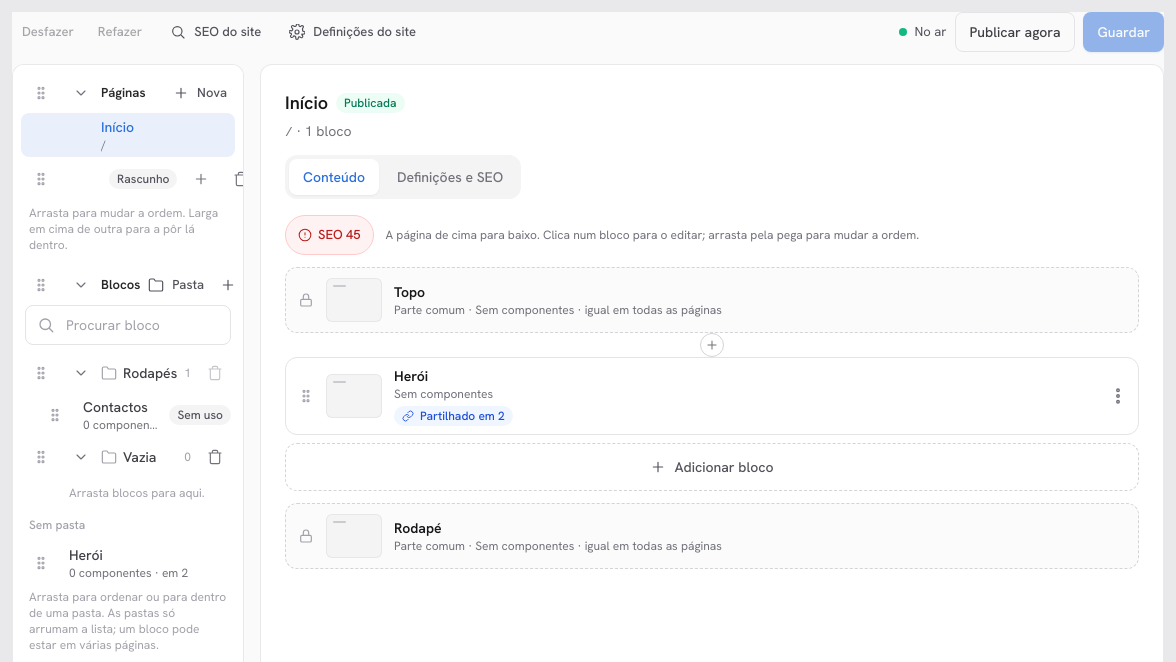
Paginas · lista lateral › pasta nova: nasce com o nome em edição, Enter grava, Esc cancela
Click the button with aria-label "Nova pasta" at (176, 285), box [140, 265, 212, 305]
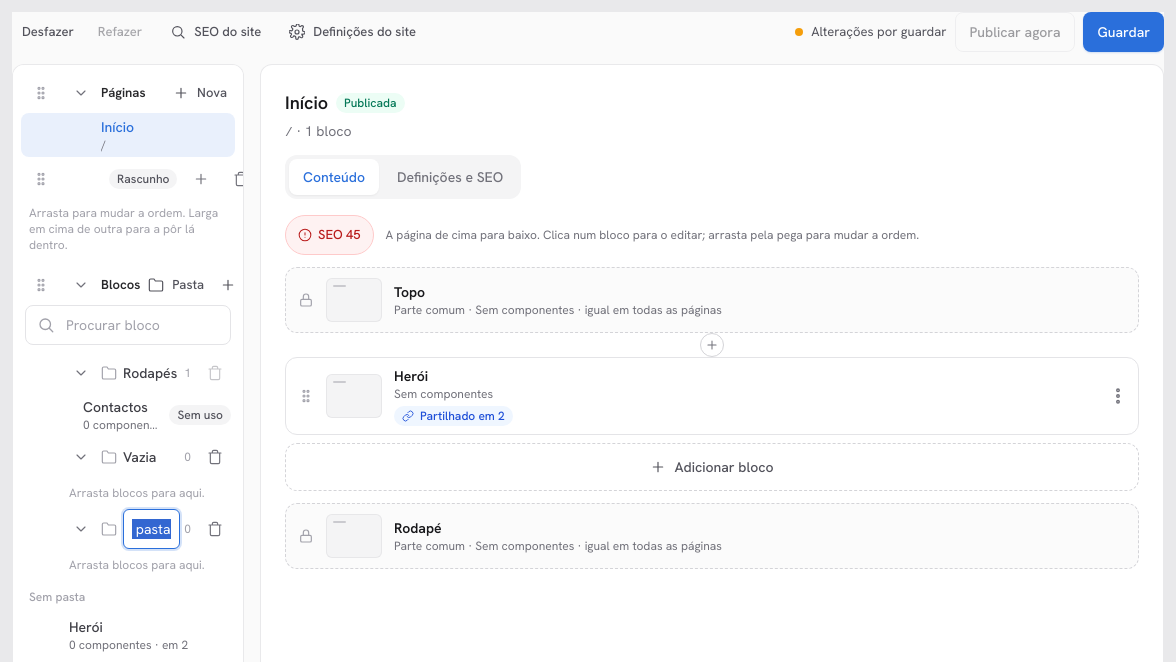
Replace the text in the field named "Nome da pasta" with "Heróis" at (152, 529), box [123, 509, 180, 549]
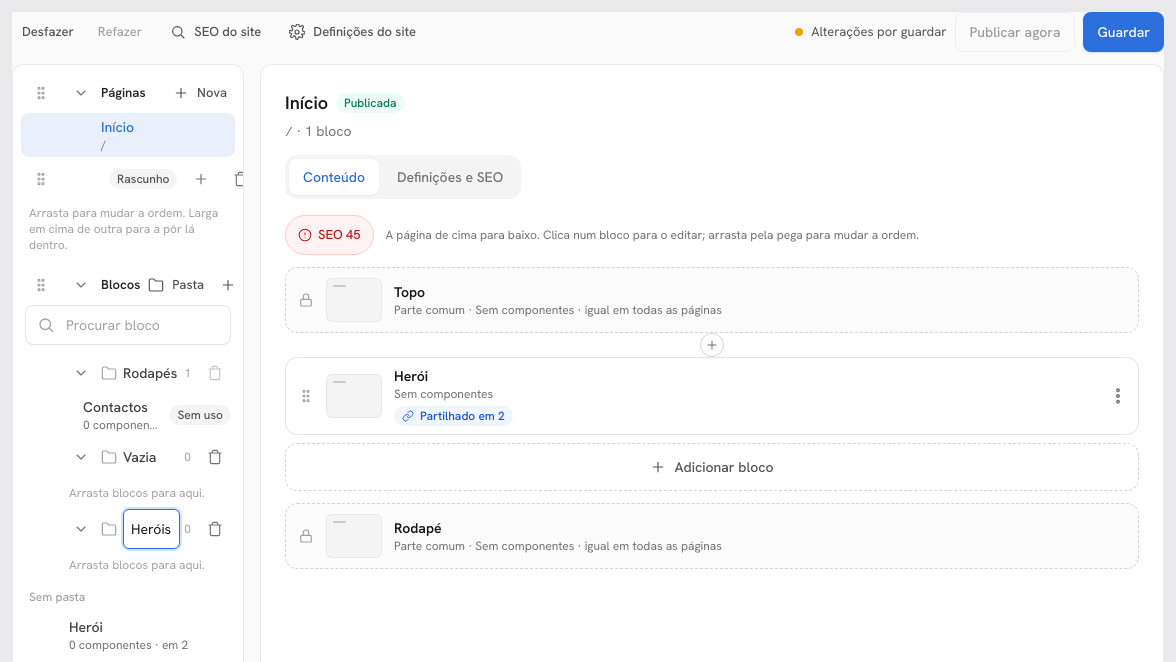
Press Enter in the field named "Nome da pasta", box [123, 509, 180, 549]
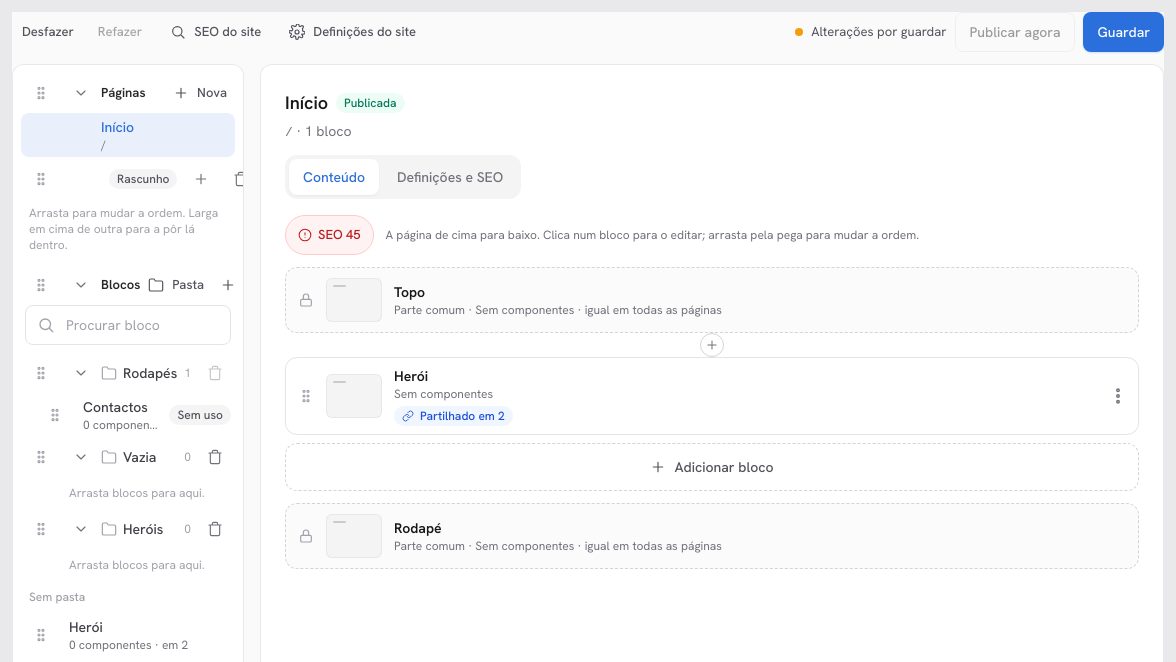
Result: the button "Heróis" is shown
Click the button "Heróis" at (152, 529), box [123, 509, 180, 549]
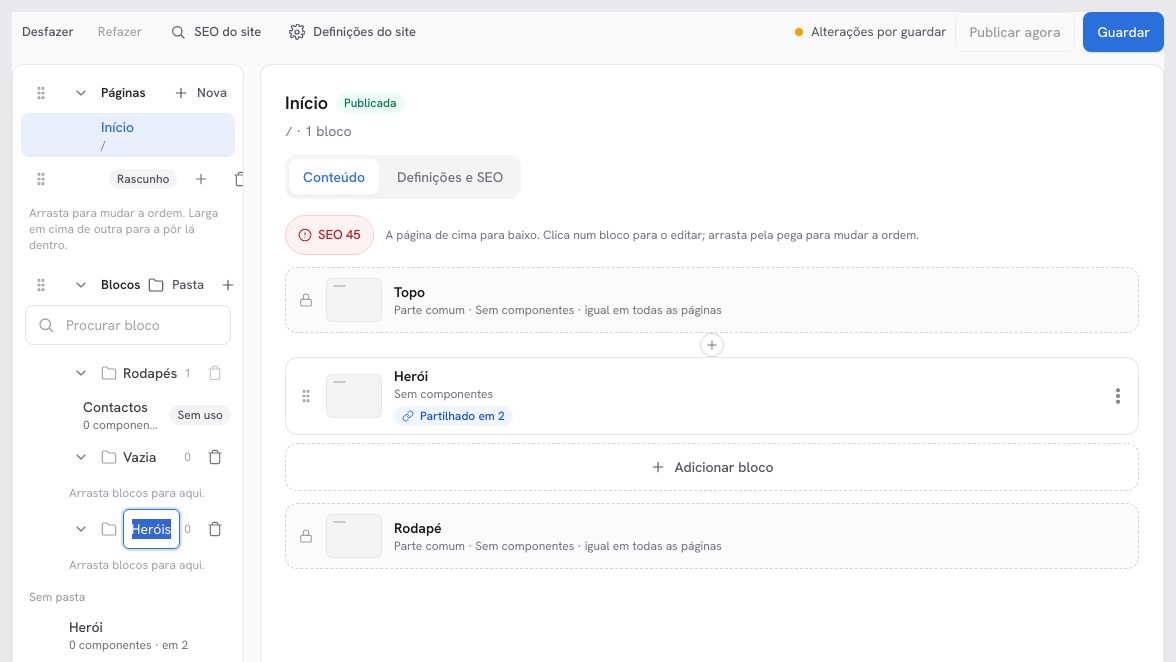
Replace the text in the field named "Nome da pasta" with "Outro" at (152, 529), box [123, 509, 180, 549]
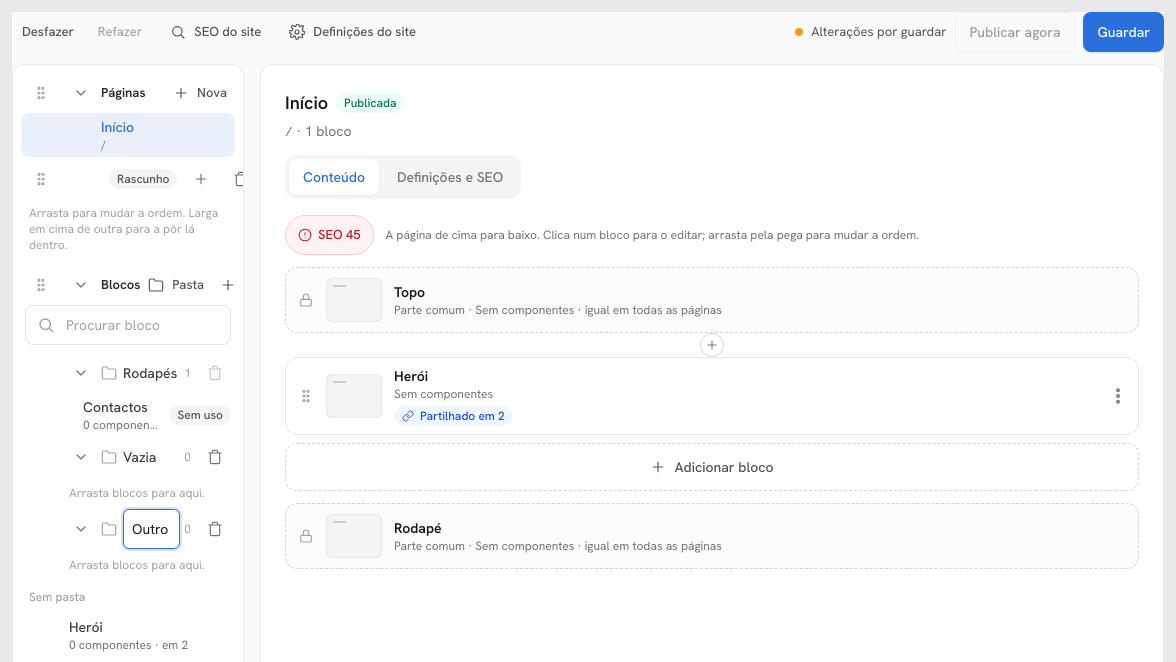
Press Escape in the field named "Nome da pasta", box [123, 509, 180, 549]
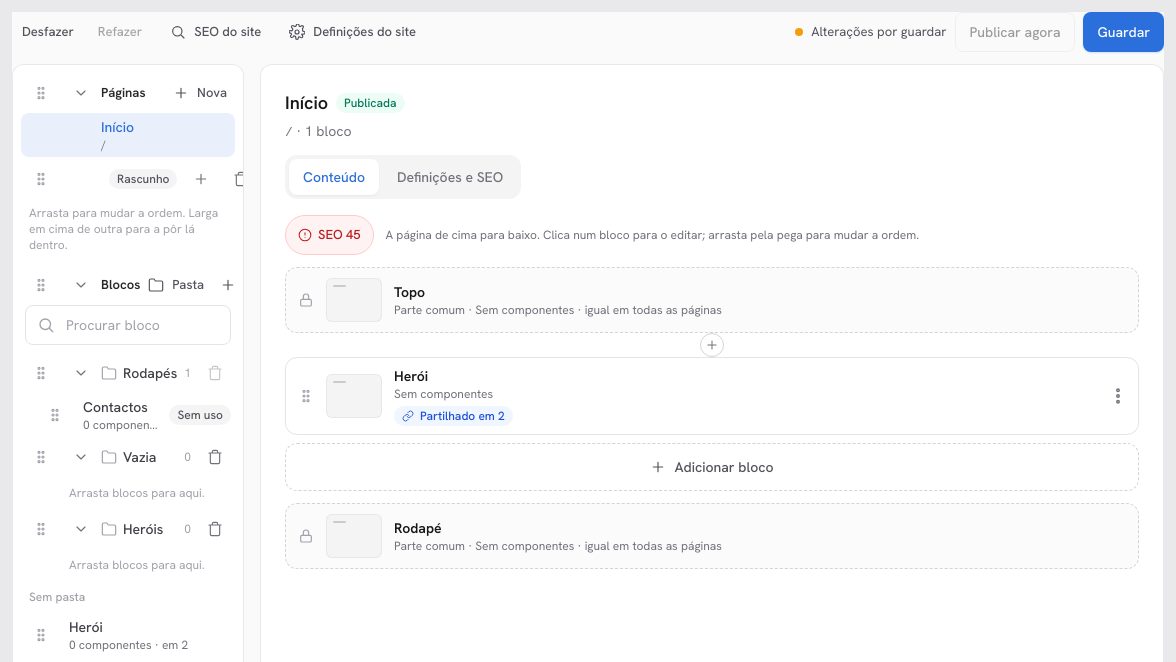
Expected: the button "Outro" is not shown
Result: the button "Heróis" is shown at [123, 509, 180, 549]
